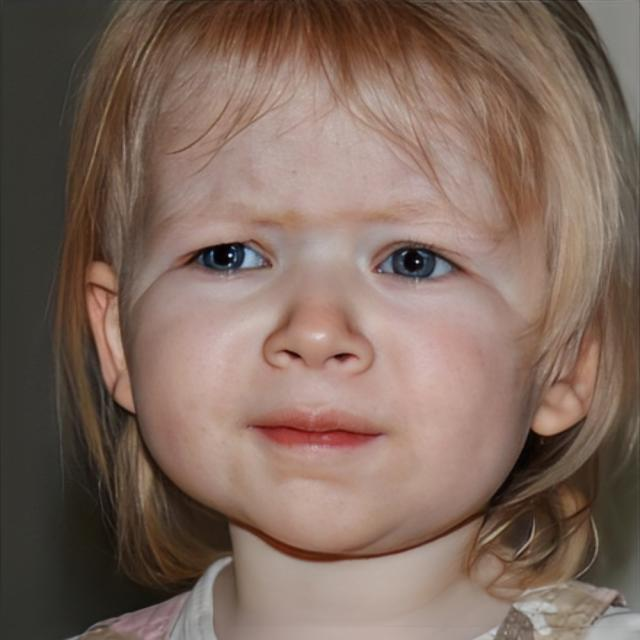sad: (125, 34, 538, 550)
